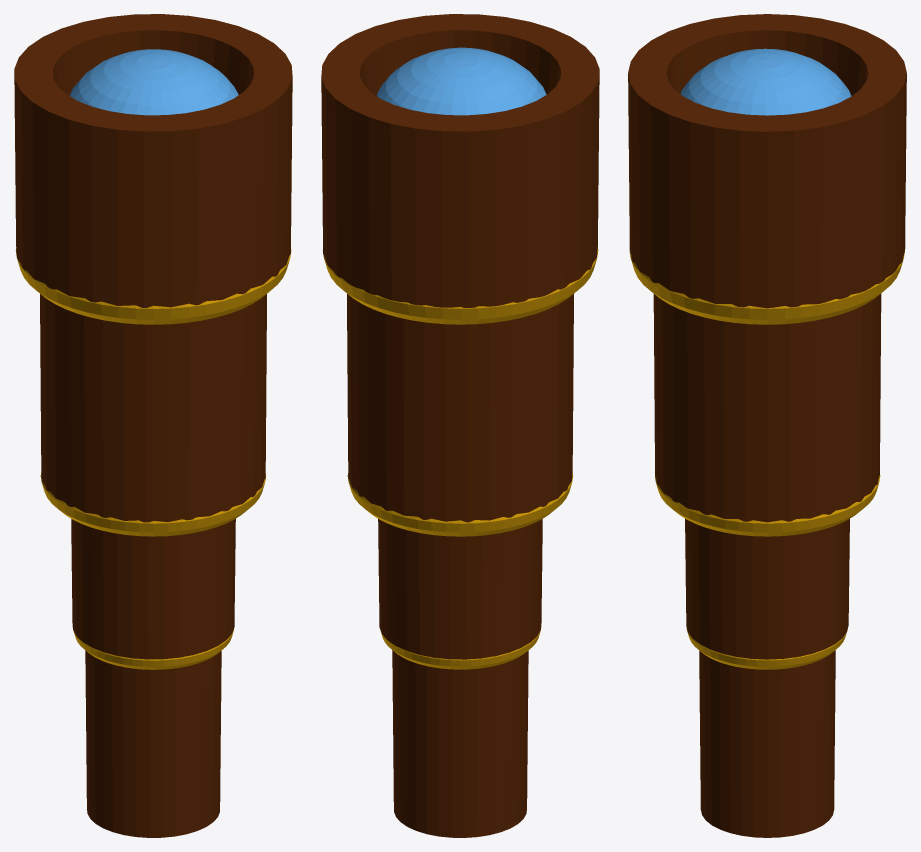
File: scope.fbx
3 views of the same model, side by side, from view 1: azimuth 30°, elevation 25°; view 2: azimuth 150°, elevation 25°; view 3: azimuth 270°, elevation 25° (orthographic).
Parts seen in each view (by area): view 1: Cylinder.001; view 2: Cylinder.001; view 3: Cylinder.001.
Part boxes in pixels (bbox=[...]): Cylinder.001: bbox=[14, 14, 292, 837]; Cylinder.001: bbox=[321, 14, 599, 837]; Cylinder.001: bbox=[628, 14, 906, 837].
Bounding box in the file's own units: 539 × 1598 × 539.
